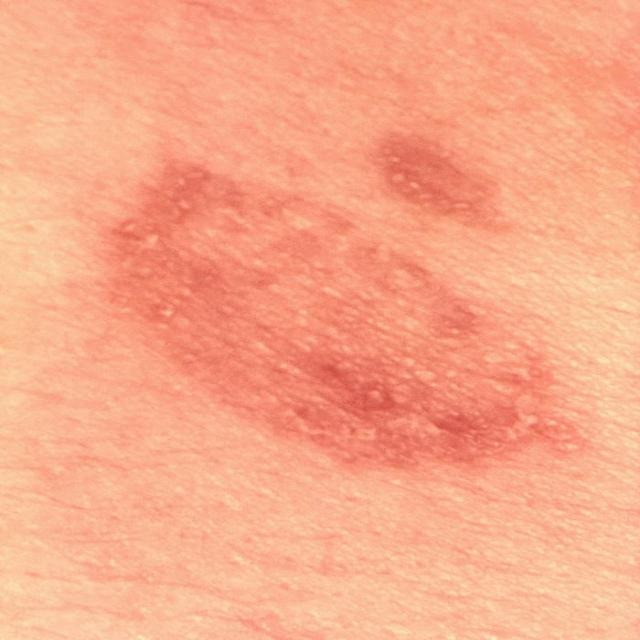Ringworm: (92, 122, 617, 492)
